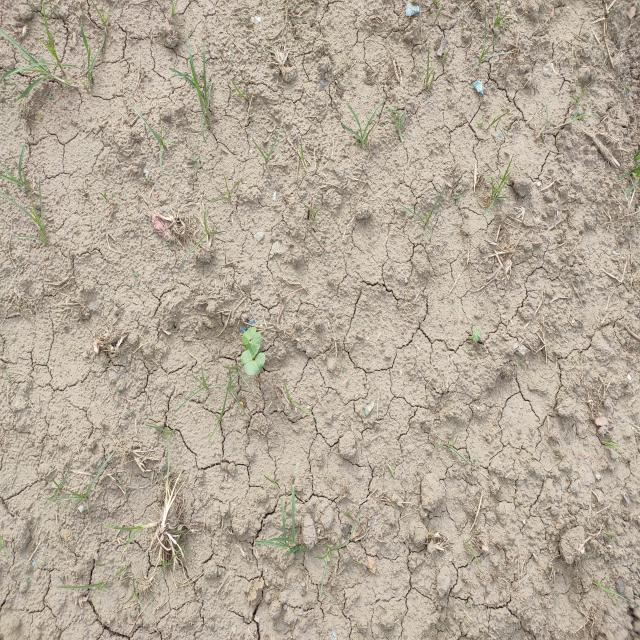seedling_s2: (245, 352, 265, 375), (241, 343, 259, 364), (246, 332, 262, 350), (242, 327, 257, 346), (469, 333, 479, 341), (474, 329, 482, 337)
